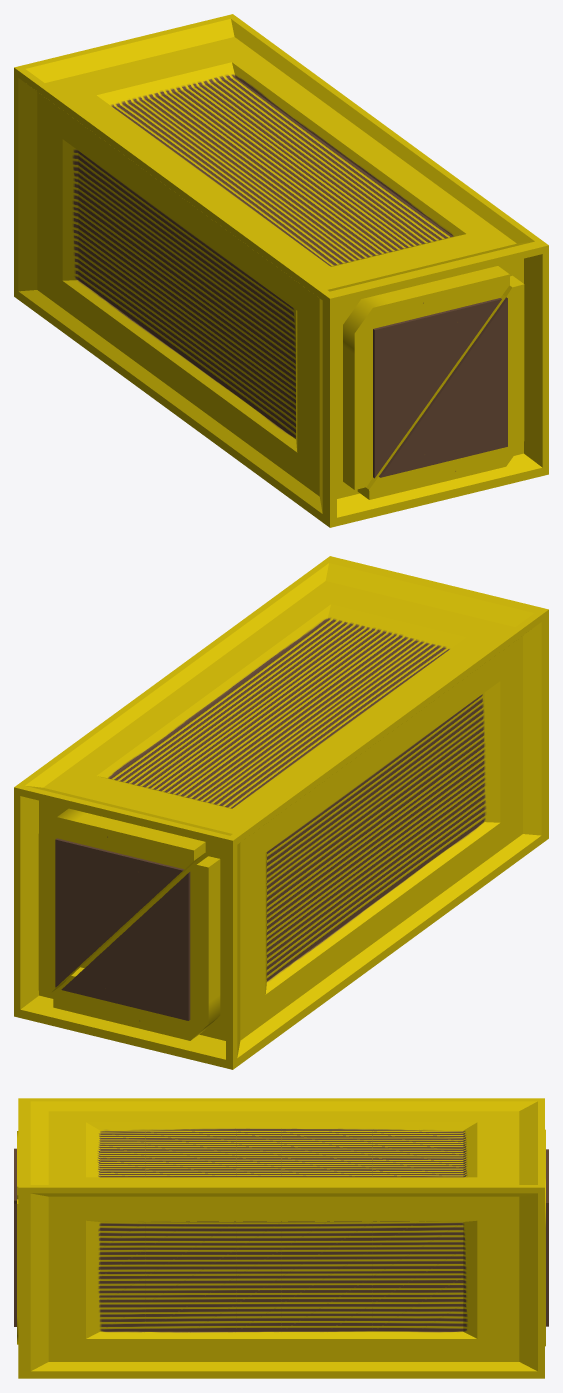
The model's file is cargo export.fbx.
3 views of the same model, one above another, from view 1: azimuth 30°, elevation 25°; view 2: azimuth 150°, elevation 25°; view 3: azimuth 270°, elevation 25° (orthographic). The views are drawn at different scales.
Parts seen in each view (by area): view 1: Cargo_Container, pCube2, pCube1; view 2: Cargo_Container, pCube2, pCube1; view 3: Cargo_Container, pCube1 (×2).
Boxes of the visible parts, x1,y1,x2,y2 form: Cargo_Container: (14,14,548,527); pCube2: (343,266,509,489); pCube1: (357,275,524,499); Cargo_Container: (14,556,548,1069); pCube2: (53,856,220,1040); pCube1: (38,808,205,993); Cargo_Container: (18,1098,544,1378); pCube1 (×2): (14,1129,548,1344).
Bounding box in the file's own units: 10.77 × 10.77 × 27.35.
